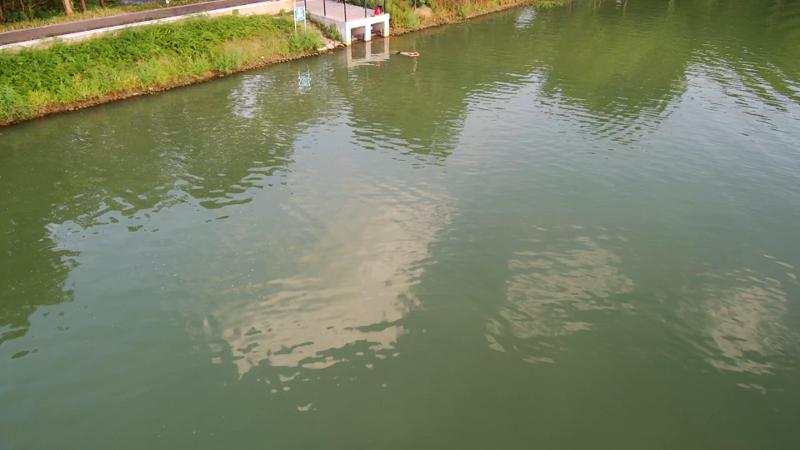swimmers: (391, 50, 420, 57)
